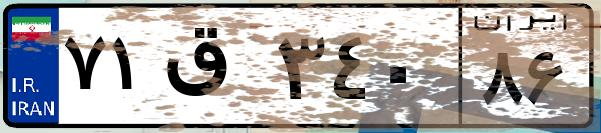0: (385, 28, 445, 110)
1: (110, 28, 158, 98)
3: (270, 28, 330, 110)
4: (330, 28, 385, 110)
6: (525, 38, 570, 115)
7: (57, 26, 110, 100)
8: (475, 38, 525, 113)
ق: (158, 20, 270, 120)
